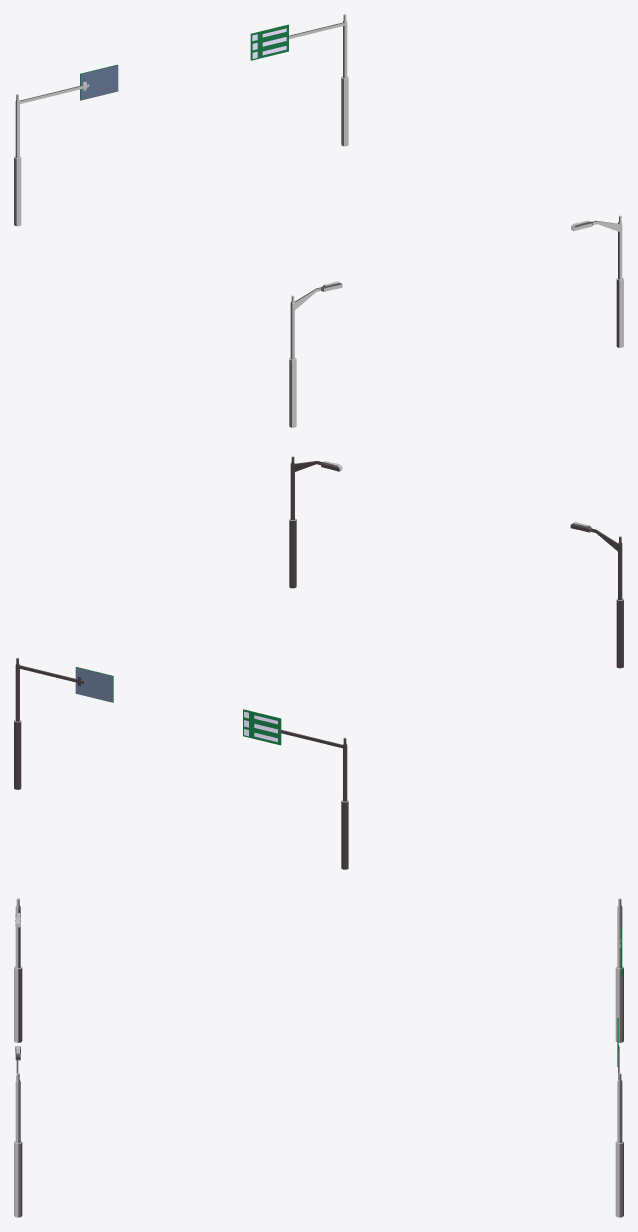
The model's file is Sign.gltf.
The picture shows the model from 3 angles, top to bottom: view 1: azimuth 30°, elevation 25°; view 2: azimuth 150°, elevation 25°; view 3: azimuth 270°, elevation 25°; orthographic projection. The views are drawn at different scales.
Visible parts, largest first — view 1: Signs; view 2: Signs; view 3: Signs.
Boxes of the visible parts, bbox=[...] form: Signs: bbox=[14, 14, 623, 427]; Signs: bbox=[14, 456, 623, 869]; Signs: bbox=[14, 898, 623, 1217].
Bounding box in the file's own units: 50.41 × 19.41 × 72.92.
